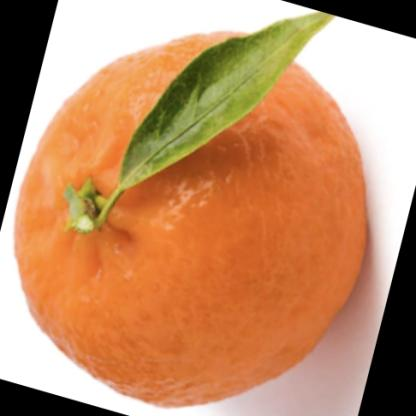fresh: (14, 34, 367, 411)
